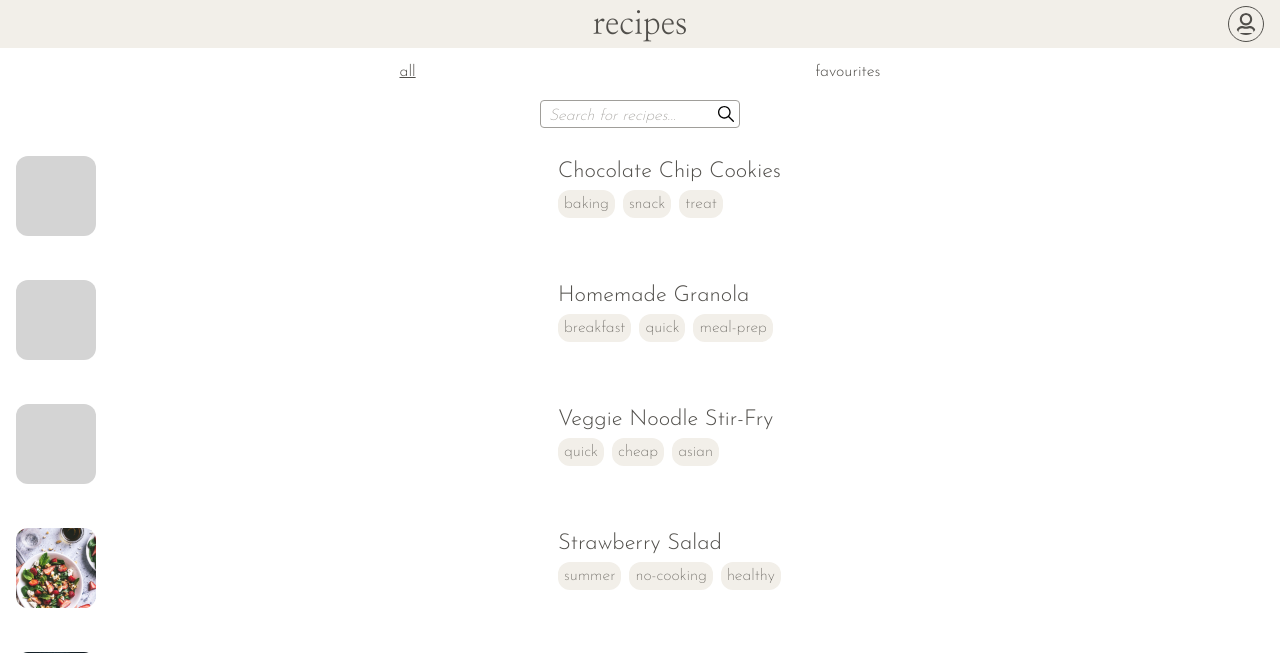
Test: test filter with no match
Step 1. Type "hdhdh" into the search field with placeholder "Search for recipes..." → (640, 114), box x1=540 y1=100 x2=740 y2=128
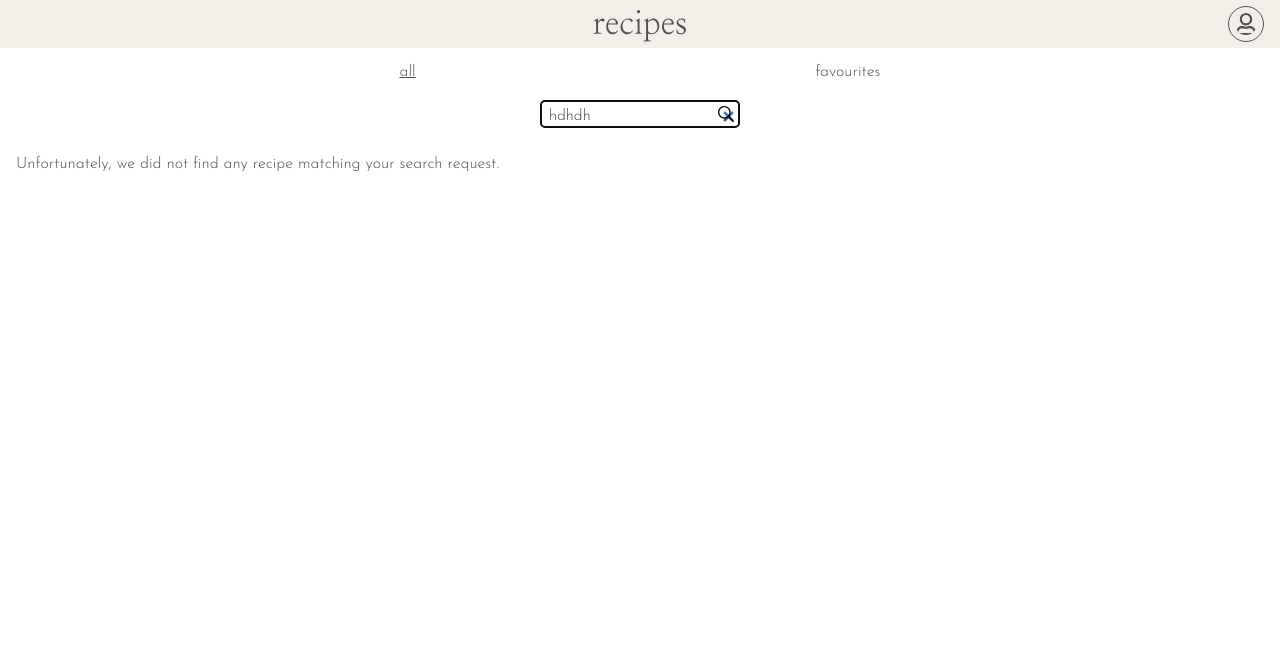
Result: the text "Unfortunately, we did not find any recipe matching your search request." is shown at x1=16 y1=156 x2=499 y2=172
